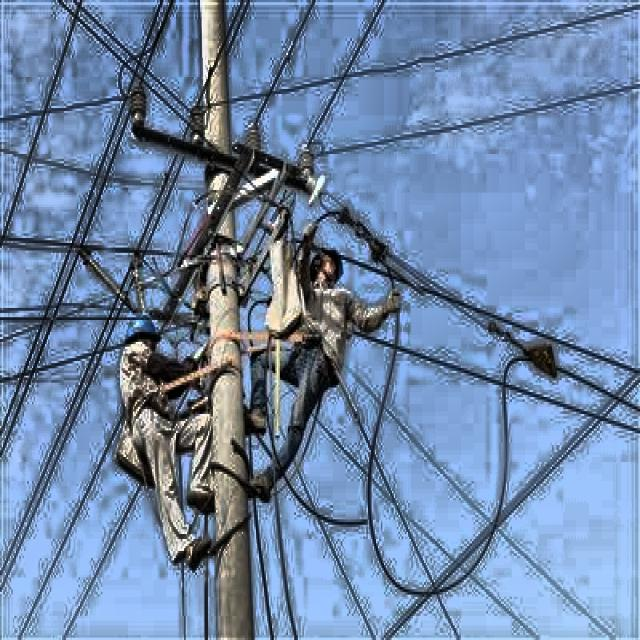helmet: (123, 315, 163, 380), (310, 241, 348, 291)
